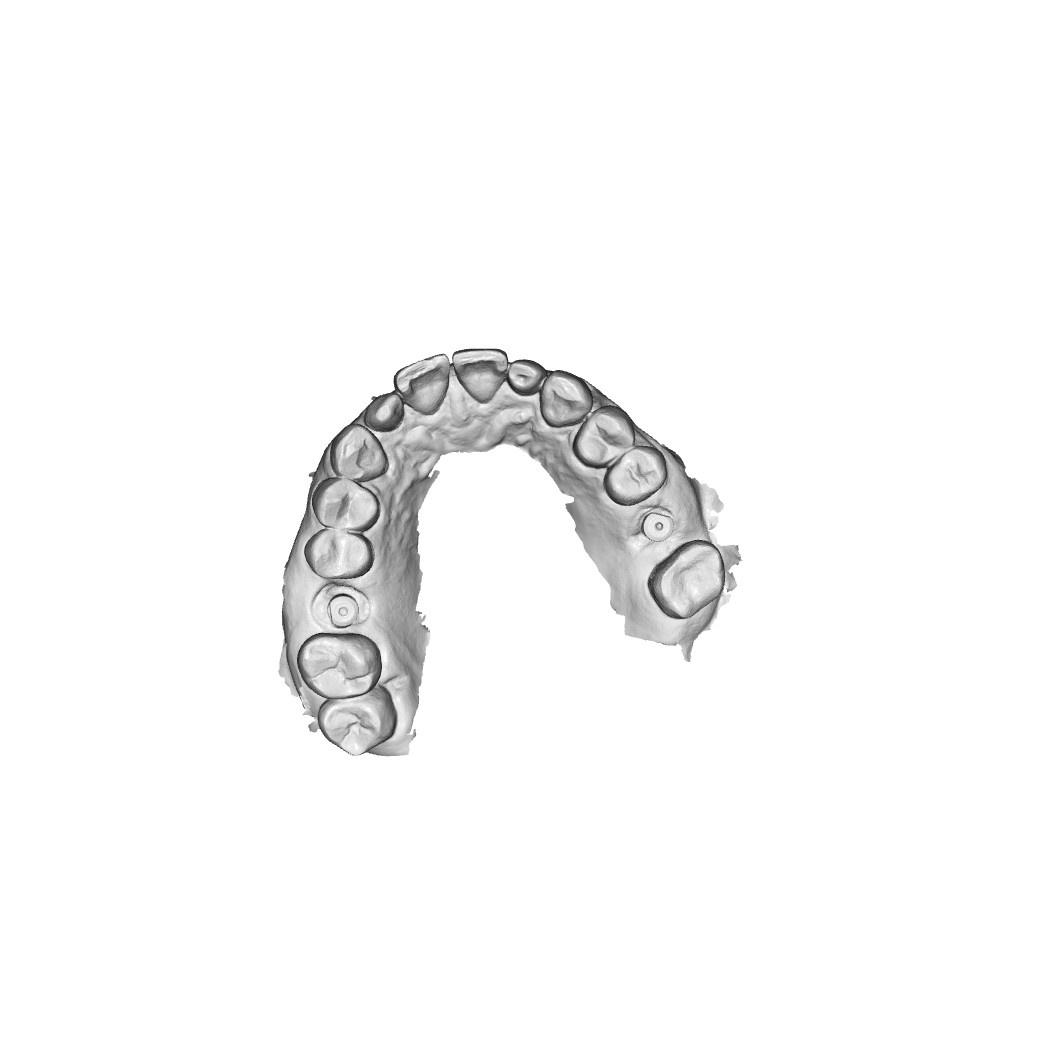canine: (328, 424, 388, 480), (539, 369, 595, 427)
implant: (325, 588, 365, 631), (641, 506, 678, 546)
incisor: (448, 345, 510, 404), (395, 355, 453, 414), (362, 387, 406, 434), (509, 351, 547, 400)
molar: (643, 541, 731, 620), (316, 694, 396, 760), (300, 634, 377, 696)
premolar: (311, 476, 383, 532), (572, 406, 633, 467), (302, 530, 374, 580), (607, 449, 664, 498)
